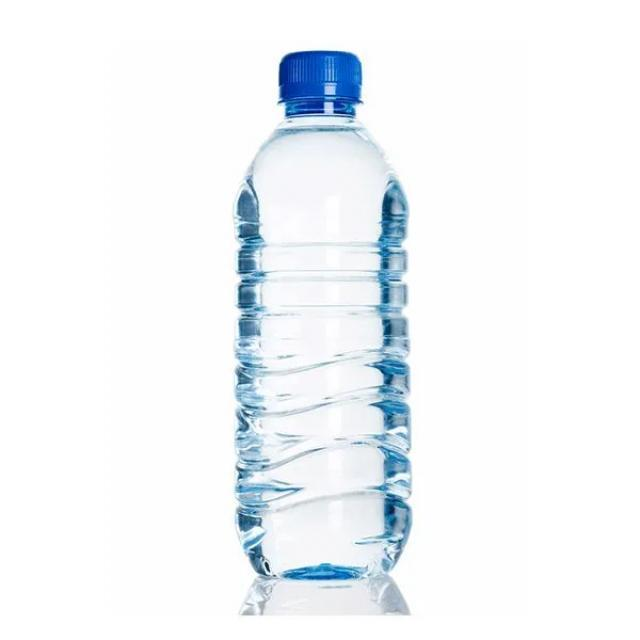plastic_bottle: (232, 51, 413, 582)
